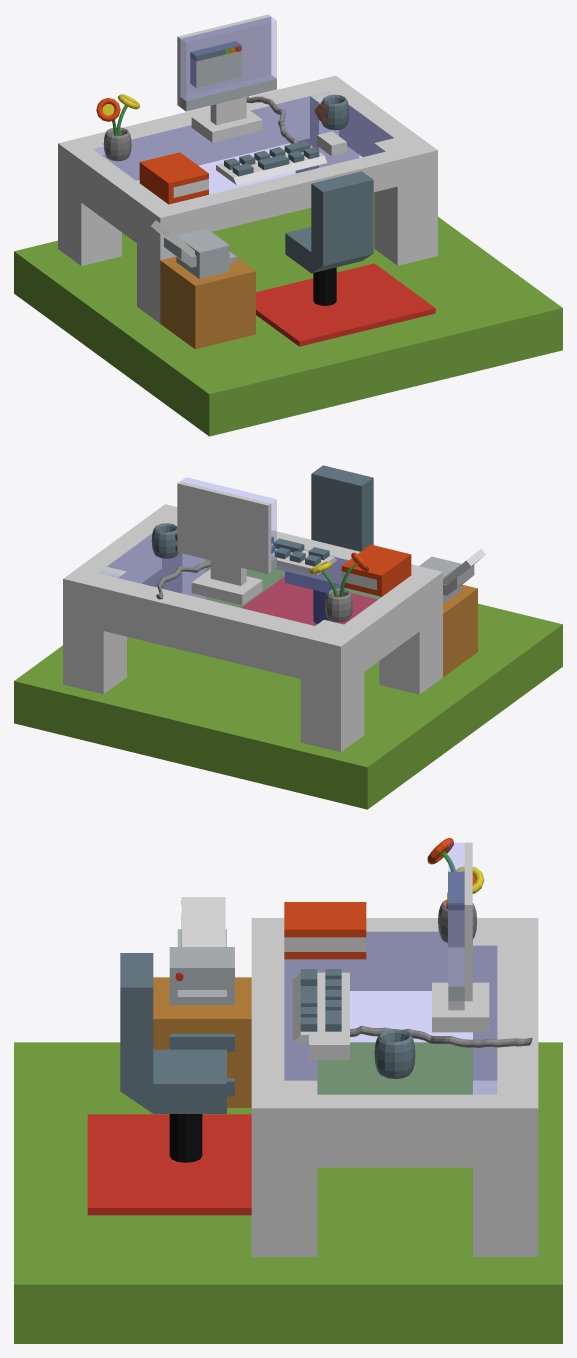
3 renders of one model, top to bottom at view 1: azimuth 30°, elevation 25°; view 2: azimuth 150°, elevation 25°; view 3: azimuth 270°, elevation 25°, orthographic. The views are drawn at different scales.
Visible parts, largest first — view 1: node_MeshObject612517888-PolyPaper9, node_MeshObject1184596992-PolyGlass24; view 2: node_MeshObject612517888-PolyPaper9, node_MeshObject1184596992-PolyGlass24; view 3: node_MeshObject612517888-PolyPaper9, node_MeshObject1184596992-PolyGlass24.
Part boxes in pixels (x1,y1,x2,y2): node_MeshObject612517888-PolyPaper9: (14, 14, 562, 436); node_MeshObject1184596992-PolyGlass24: (93, 17, 393, 194); node_MeshObject612517888-PolyPaper9: (14, 465, 562, 809); node_MeshObject1184596992-PolyGlass24: (101, 477, 380, 625); node_MeshObject612517888-PolyPaper9: (14, 838, 562, 1343); node_MeshObject1184596992-PolyGlass24: (284, 843, 496, 1094).
Bounding box in the file's own units: 0.7 × 0.47 × 0.67.
